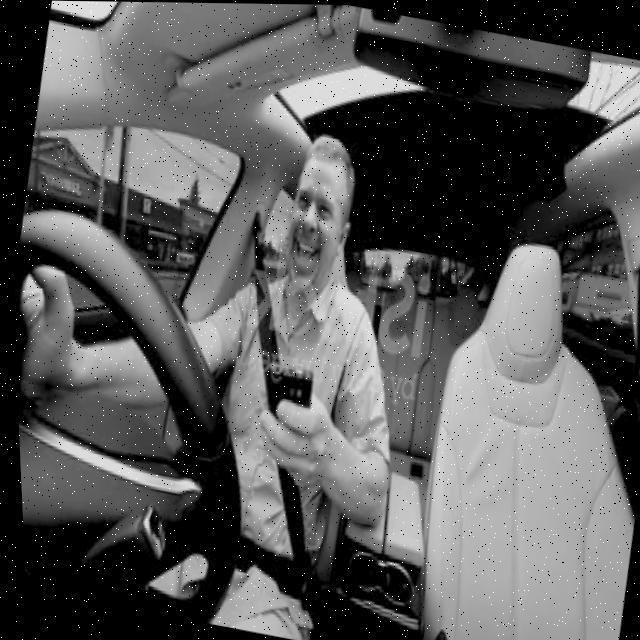PhoneCall: (248, 358, 314, 456)
